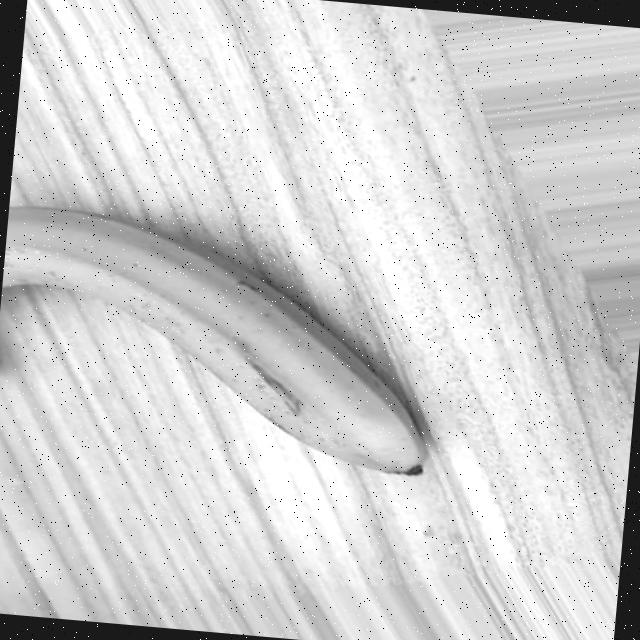Unripe: (0, 203, 445, 478)
